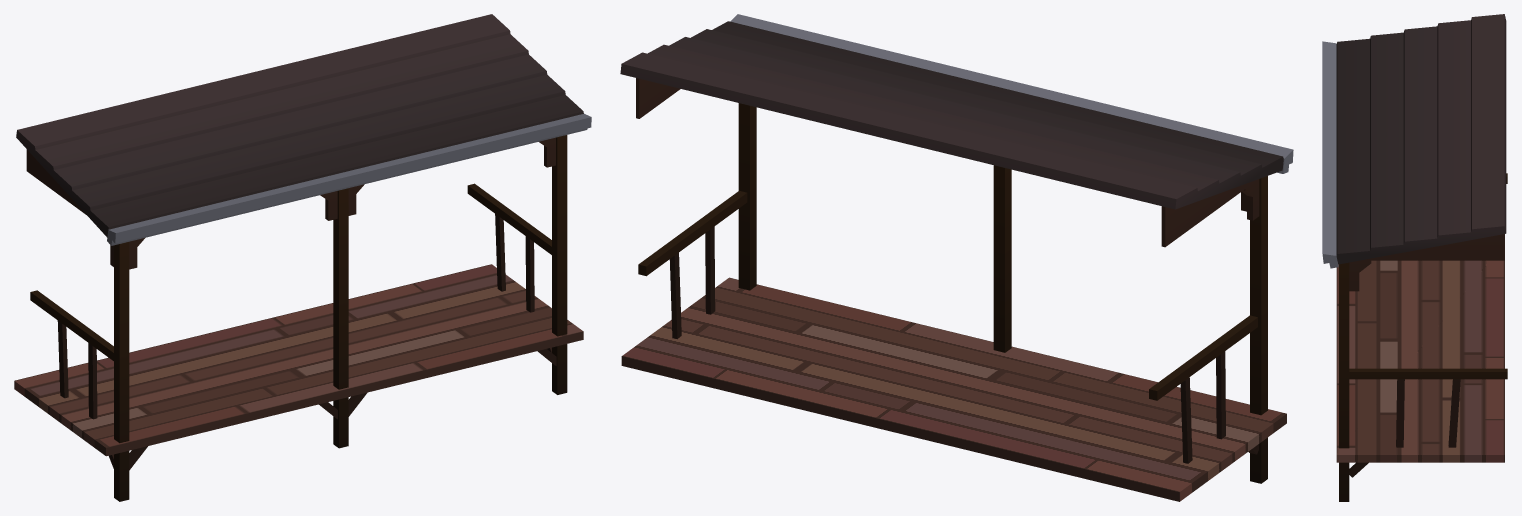
The model's file is Deck 6M v04.glb.
The picture shows the model from 3 angles, left to right: view 1: azimuth 30°, elevation 25°; view 2: azimuth 150°, elevation 25°; view 3: azimuth 270°, elevation 25°; orthographic projection. The views are drawn at different scales.
Visible parts, largest first — view 1: Deck 6M v04; view 2: Deck 6M v04; view 3: Deck 6M v04.
Boxes of the visible parts, <box> form: Deck 6M v04: <box>14,14,591,501</box>; Deck 6M v04: <box>620,14,1293,501</box>; Deck 6M v04: <box>1322,14,1507,501</box>.
Size of what is drawn, in the model's own units: 6.01 by 3.71 by 2.2.
2 materials, 2 textured.
